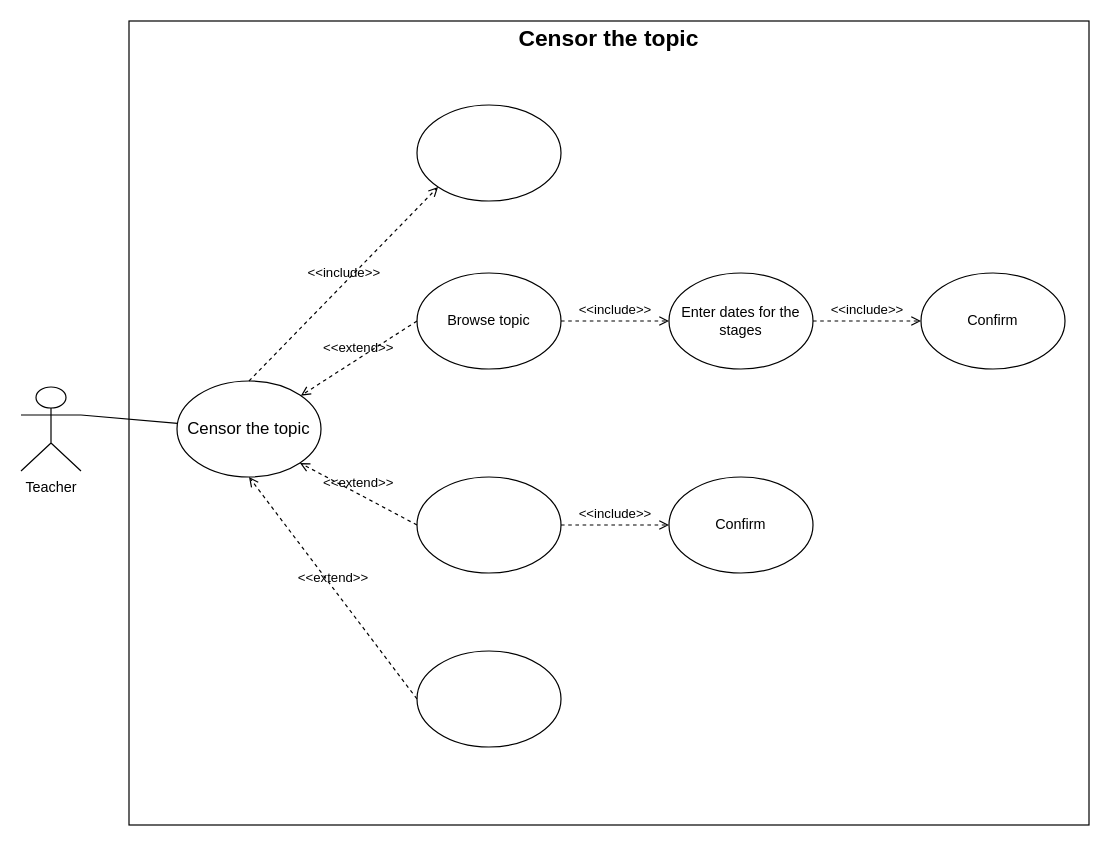
The diagram is 1110 pixels wide and 846 high, and some of its shapes have lost their labels. The shapes that lost their labels are listed below. From the top down, each one's box as (x1, y1, x2, y2) in pixels, then its label:
(416, 104, 561, 201): Login
(416, 476, 561, 573): Cancel topic
(416, 650, 561, 747): View topic description
